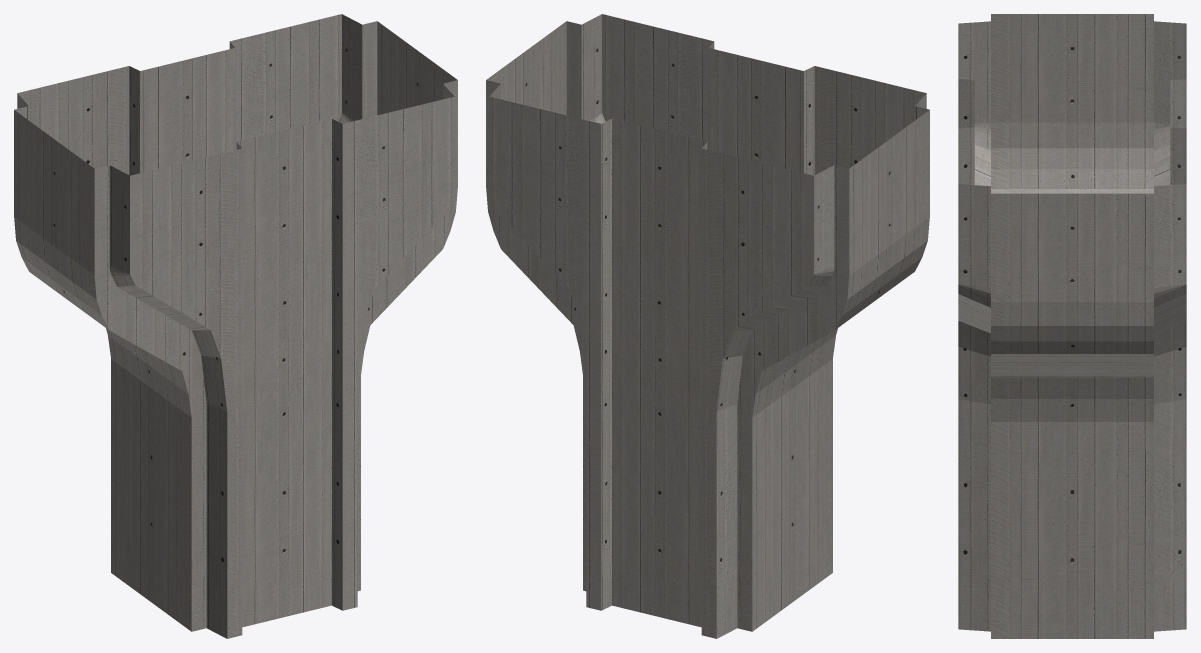
Rendered from Support_short.fbx.
The picture shows the model from 3 angles, left to right: view 1: azimuth 30°, elevation 25°; view 2: azimuth 150°, elevation 25°; view 3: azimuth 270°, elevation 25°; orthographic projection.
Visible parts, largest first — view 1: Empty_Mesh; view 2: Empty_Mesh; view 3: Empty_Mesh.
Part boxes in pixels (<box>): Empty_Mesh: <box>14,14,457,638</box>; Empty_Mesh: <box>486,14,929,638</box>; Empty_Mesh: <box>958,14,1186,638</box>.
Bounding box in the file's own units: 7.81 × 10 × 4.2.
